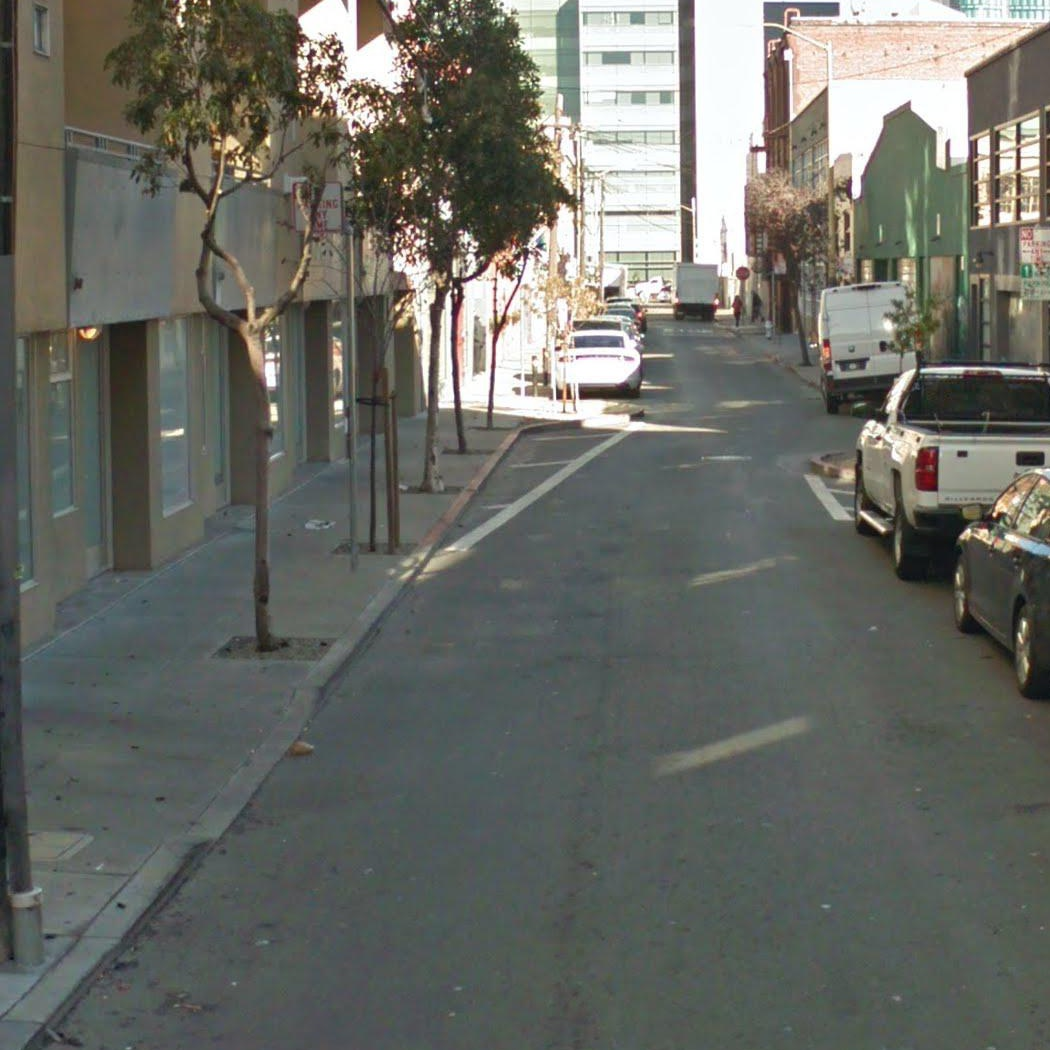1 Hour Parking: (1020, 263, 1049, 305)
No Parking Anytime: (1019, 226, 1050, 268)
